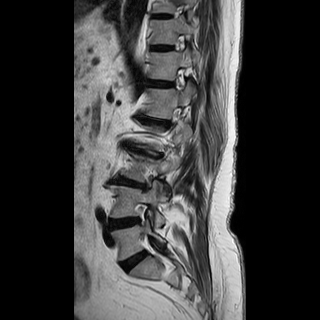LFS0: (127, 200, 155, 232)
